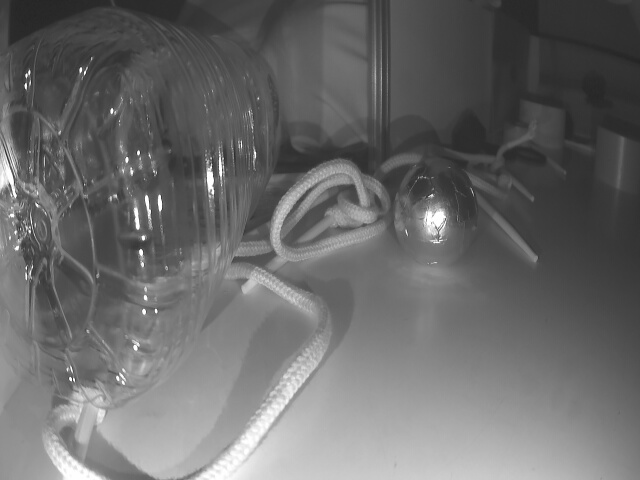Live: (400, 151, 477, 269)
